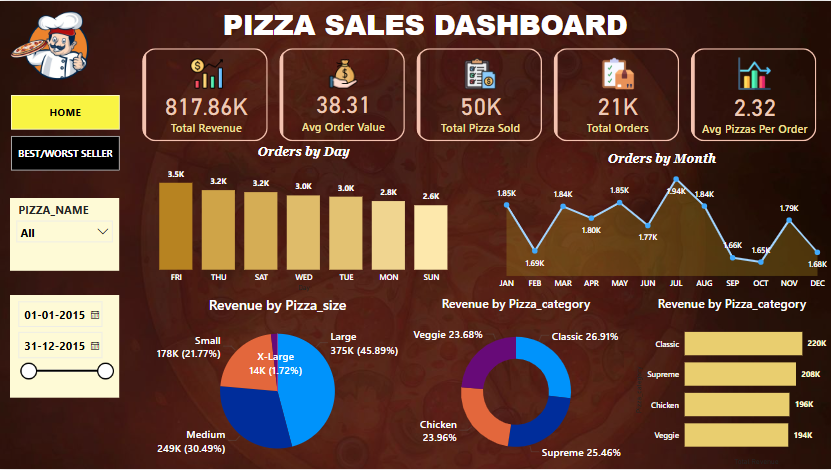

Layout of this report page (visuals, bound fields, positions):
{"tool":"powerbi","page":{"name":"HOME","canvas":[1280,720],"ordinal":0},"visuals":[{"type":"cardVisual","fields":{"Data":["pizza_sales.Total Revenue","pizza_sales.Avg Order Value","pizza_sales.Total Pizza Sold","pizza_sales.Total Orders","pizza_sales.Avg Pizzas Per Order"]},"box":[214,68,1047.4,153.1],"z":0},{"type":"image","box":[0,0,158.7,144.6],"z":1000},{"type":"textbox","box":[324.6,0,658.5,86.2],"z":2000},{"type":"columnChart","title":"Orders by Day","fields":{"Category":["pizza_sales.Day"],"Y":["pizza_sales.Total Orders"]},"box":[214,221.1,507.4,231],"z":3000},{"type":"areaChart","title":"Orders by Month","fields":{"Category":["pizza_sales.Month"],"Y":["pizza_sales.Total Orders"]},"box":[756.9,232.4,523,219.7],"z":4000},{"type":"donutChart","title":"Revenue by Pizza_category","fields":{"Y":["pizza_sales.Total Revenue"],"Category":["pizza_sales.Pizza_category"]},"box":[615.4,452.3,356.9,267.7],"z":5000},{"type":"pieChart","title":"Revenue by Pizza_size","fields":{"Y":["pizza_sales.Total Revenue"],"Category":["pizza_sales.Pizza_size"]},"box":[200,452.3,453.8,267.7],"z":6000},{"type":"barChart","title":" Revenue by Pizza_category","fields":{"Category":["pizza_sales.Pizza_category"],"Y":["pizza_sales.Total Revenue"]},"box":[972.3,452.3,307.7,267.7],"z":7000},{"type":"pageNavigator","box":[17,144.6,167.2,117.6],"z":8000},{"type":"slicer","fields":{"Values":["pizza_sales.Pizza_name"]},"box":[15.4,303.1,167.7,112.3],"z":9000},{"type":"slicer","fields":{"Values":["pizza_sales.Order_date"]},"box":[15.4,452.3,167.7,158.5],"z":10000}]}

Visuals, with their boxes in screenshot pixels (x1, y1, x2, y2), scaled from the page's 1280x720 canvas onto the 831x470 screenshot:
cardVisual - pizza_sales.Total Revenue x pizza_sales.Avg Order Value: (139, 44, 819, 144)
image: (0, 0, 103, 94)
textbox: (211, 0, 638, 56)
"Orders by Day" columnChart: (139, 144, 468, 295)
"Orders by Month" areaChart: (491, 152, 830, 295)
"Revenue by Pizza_category" donutChart: (400, 295, 631, 469)
"Revenue by Pizza_size" pieChart: (130, 295, 424, 469)
" Revenue by Pizza_category" barChart: (631, 295, 830, 469)
pageNavigator: (11, 94, 120, 171)
slicer - pizza_sales.Pizza_name: (10, 198, 119, 271)
slicer - pizza_sales.Order_date: (10, 295, 119, 399)
